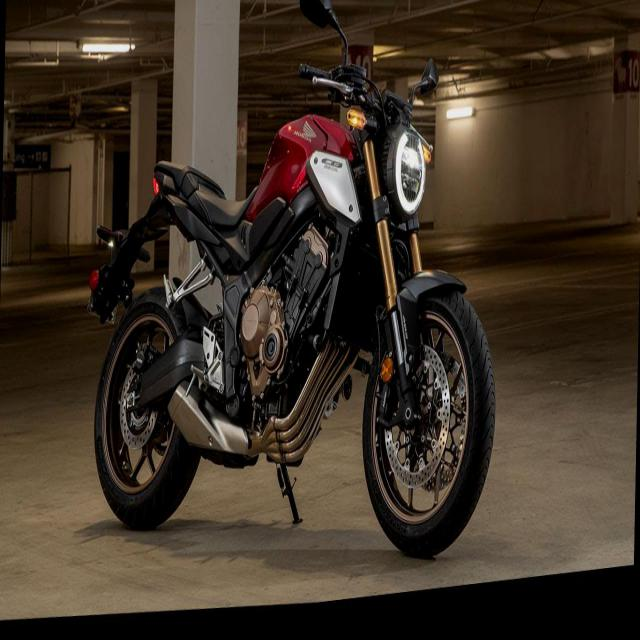CB650R: (80, 0, 507, 602)
